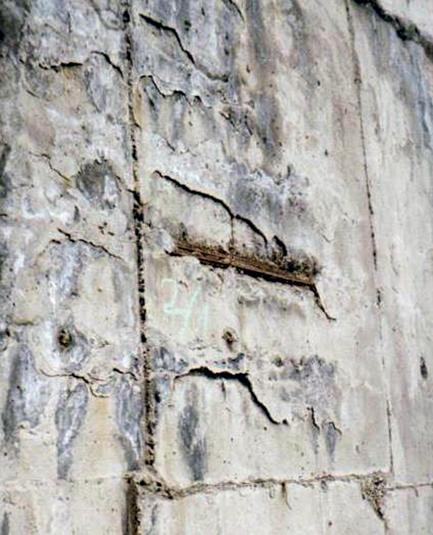exposed_rebar: (169, 237, 326, 313)
